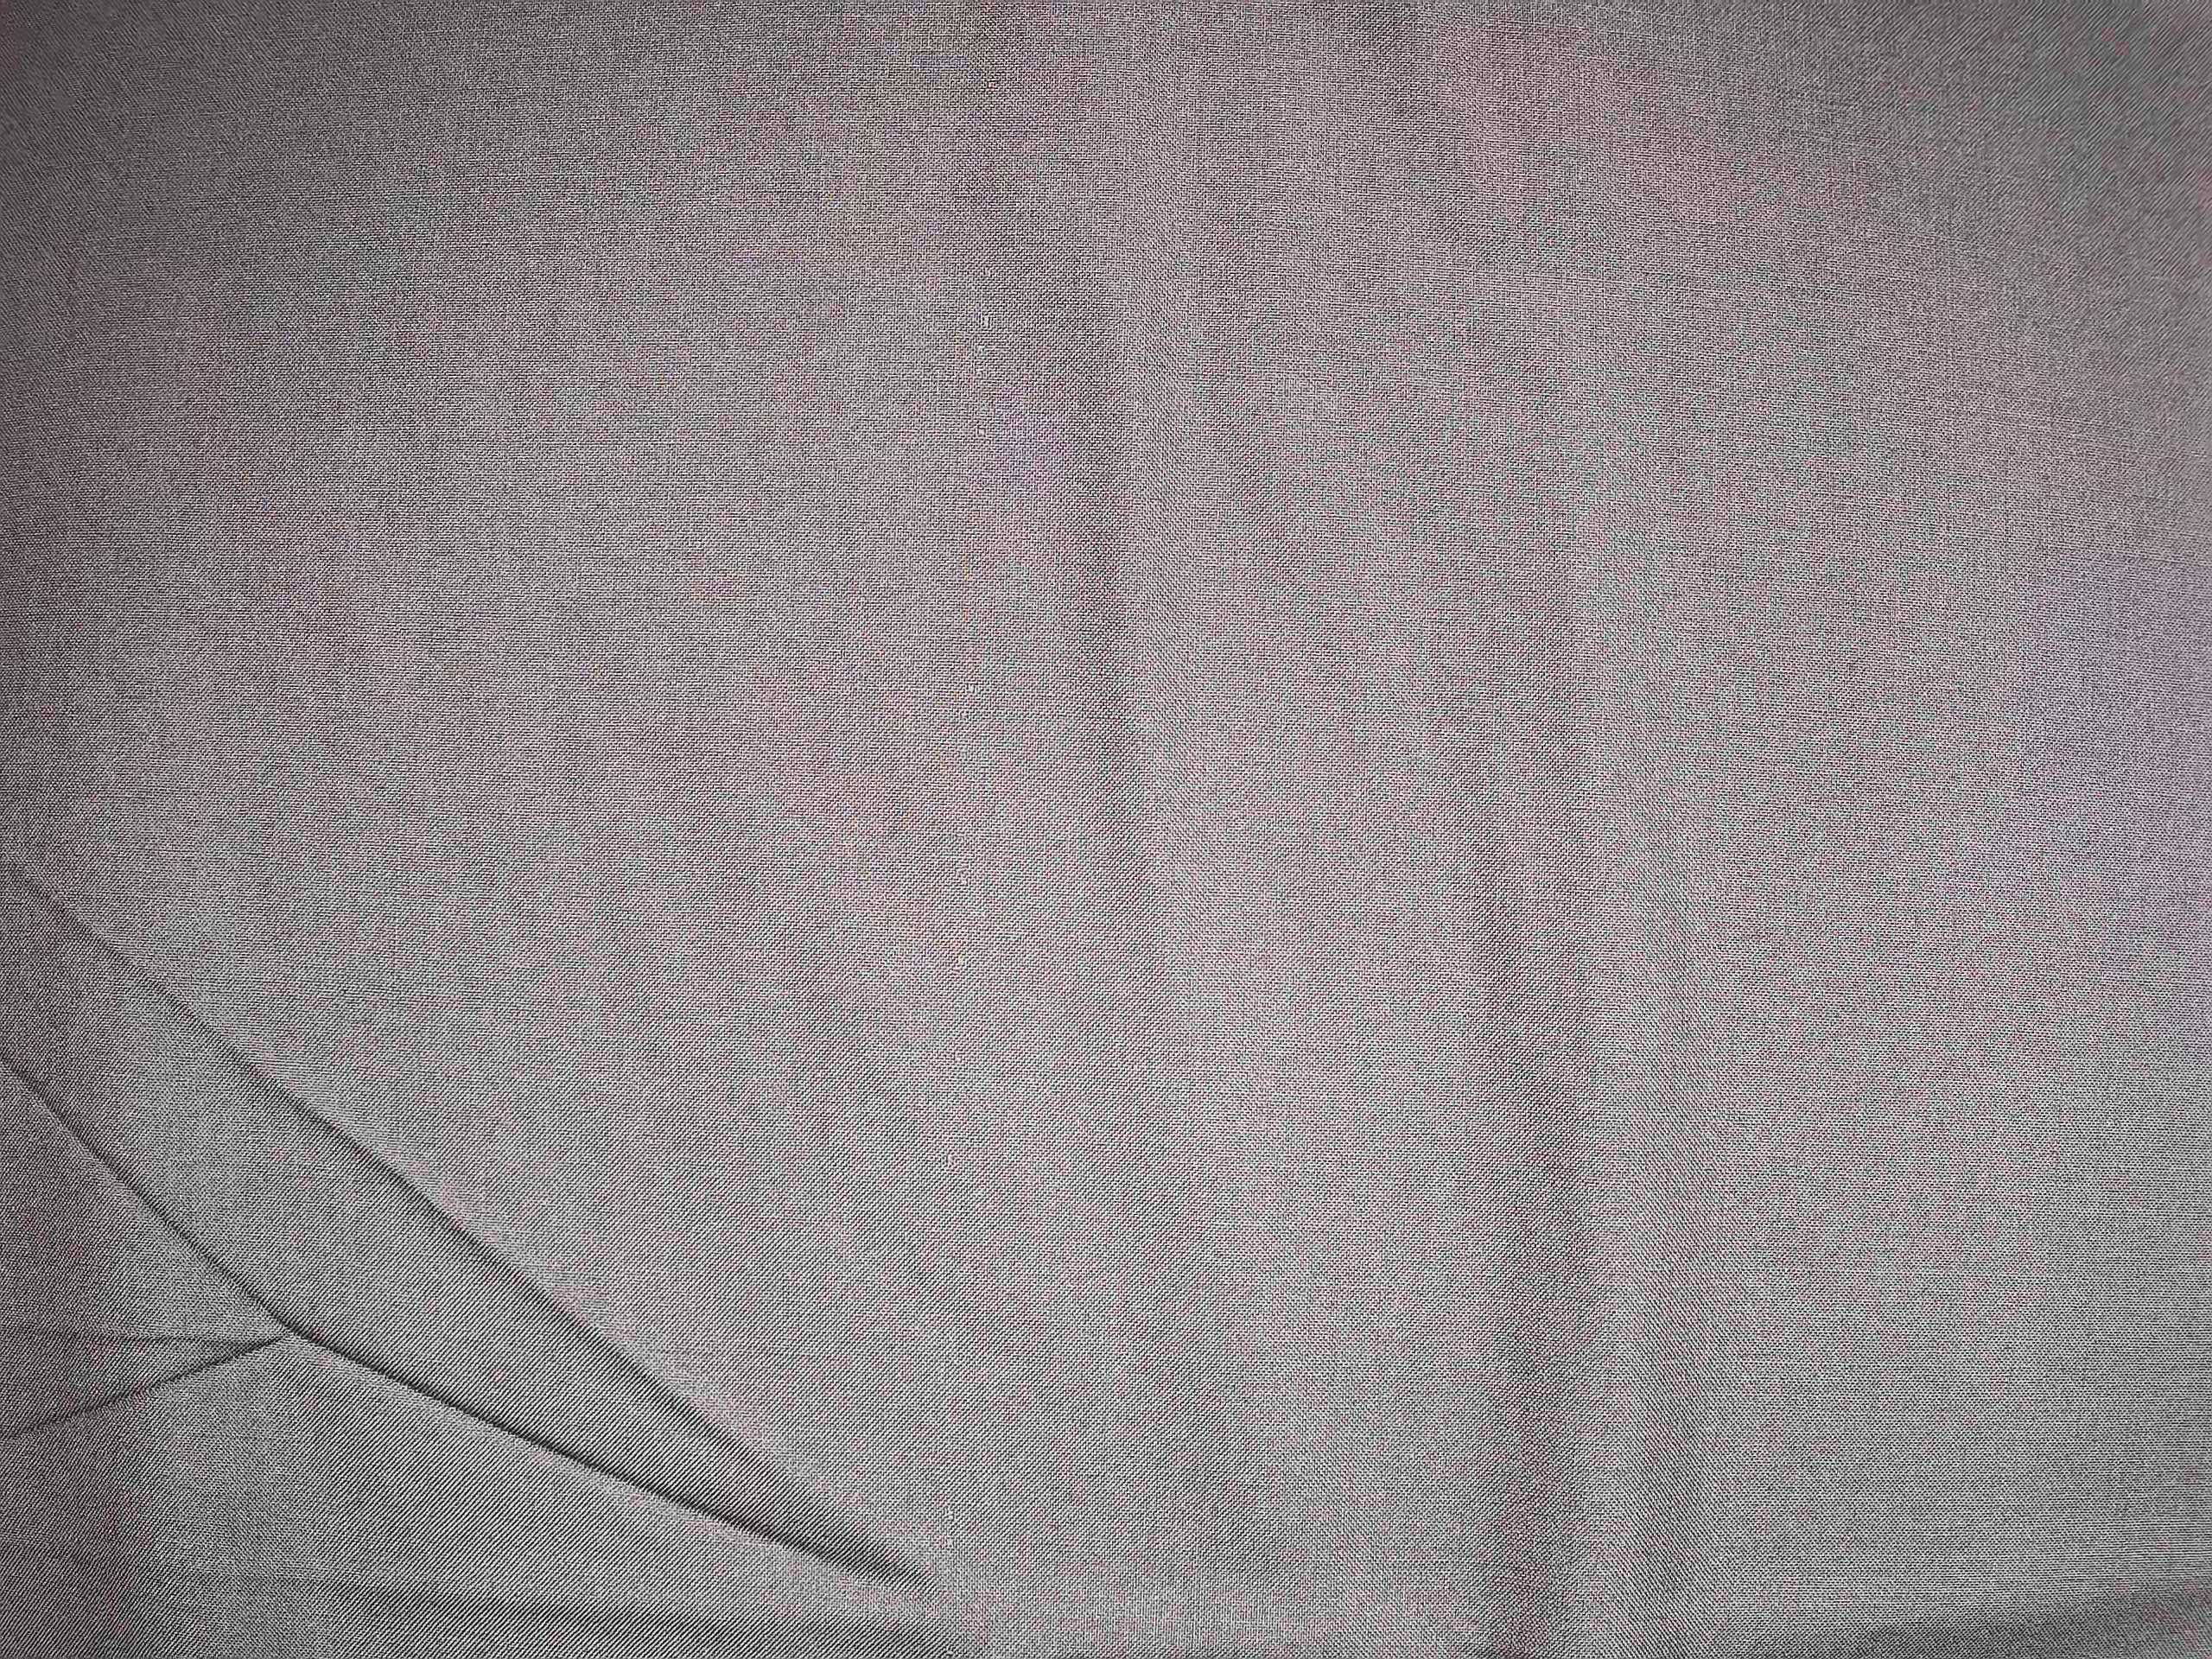jumps: (939, 669, 998, 1087), (951, 251, 1010, 464), (923, 1480, 988, 1654), (935, 1141, 967, 1178)
